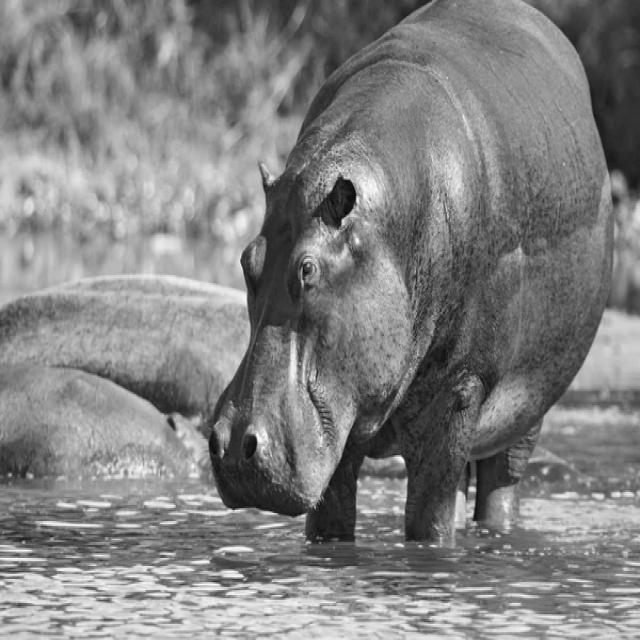Animal: (210, 2, 612, 541)
